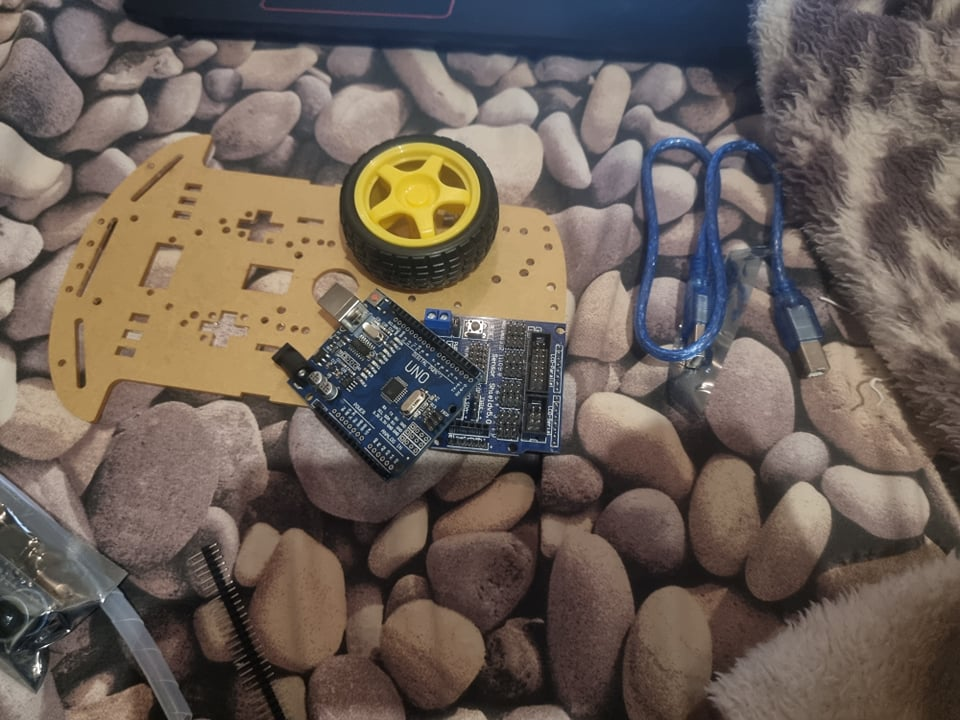5V EXPANSION: (422, 307, 566, 454)
UNO R3: (272, 285, 482, 480)
